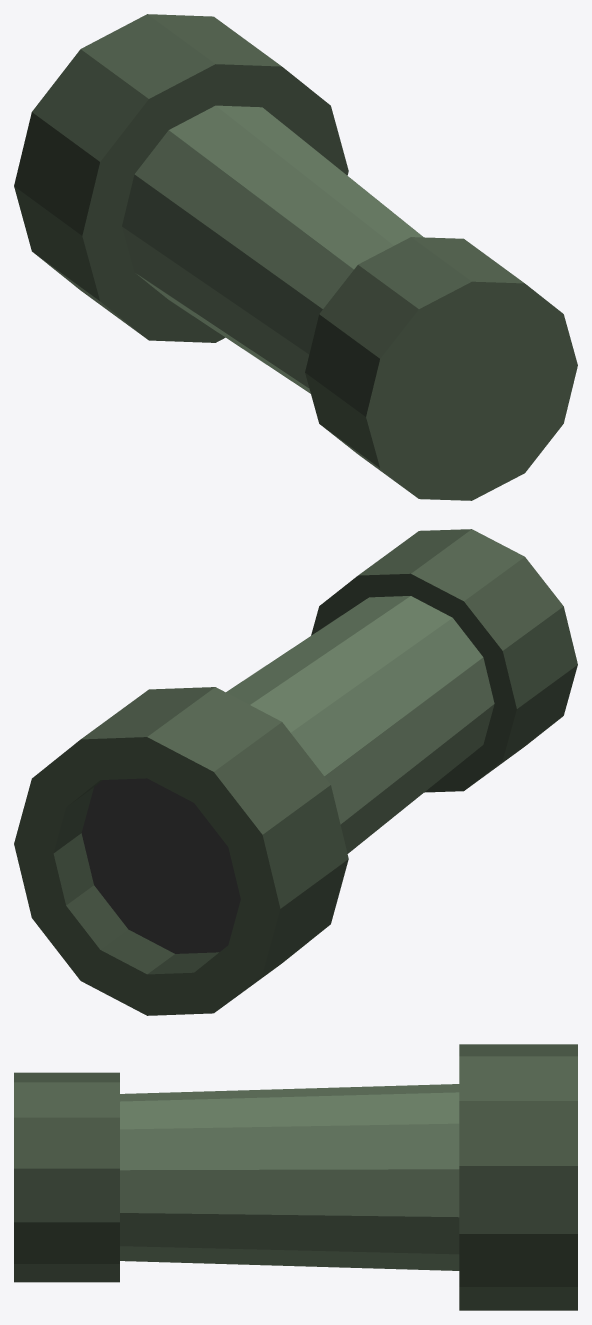
The model's file is Bazooka.fbx.
3 renders of one model, top to bottom at view 1: azimuth 30°, elevation 25°; view 2: azimuth 150°, elevation 25°; view 3: azimuth 270°, elevation 25°, orthographic. The views are drawn at different scales.
Visible parts, largest first — view 1: pCylinder1; view 2: pCylinder1; view 3: pCylinder1.
Part boxes in pixels (x1,y1,x2,y2): pCylinder1: (14, 14, 577, 500); pCylinder1: (14, 529, 577, 1015); pCylinder1: (14, 1044, 577, 1310).
Size of the model in its own units: 1.63 by 1.63 by 3.43.
